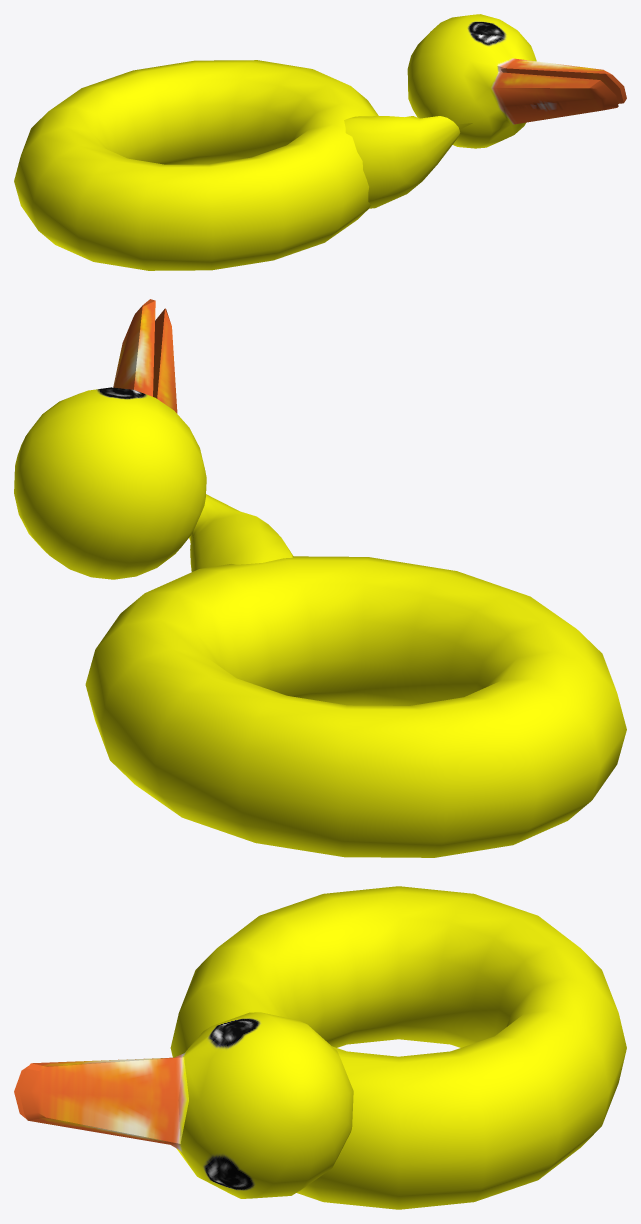
Rendered from duckRing.fbx.
3 renders of one model, top to bottom at view 1: azimuth 30°, elevation 25°; view 2: azimuth 150°, elevation 25°; view 3: azimuth 270°, elevation 25°, orthographic. The views are drawn at different scales.
Parts seen in each view (by area): view 1: duckRing; view 2: duckRing; view 3: duckRing.
Part boxes in pixels (x1,y1,x2,y2): duckRing: (14, 14, 626, 270); duckRing: (14, 299, 626, 857); duckRing: (14, 886, 626, 1209).
Size of the model in its own units: 9.63 by 3.53 by 7.92.
